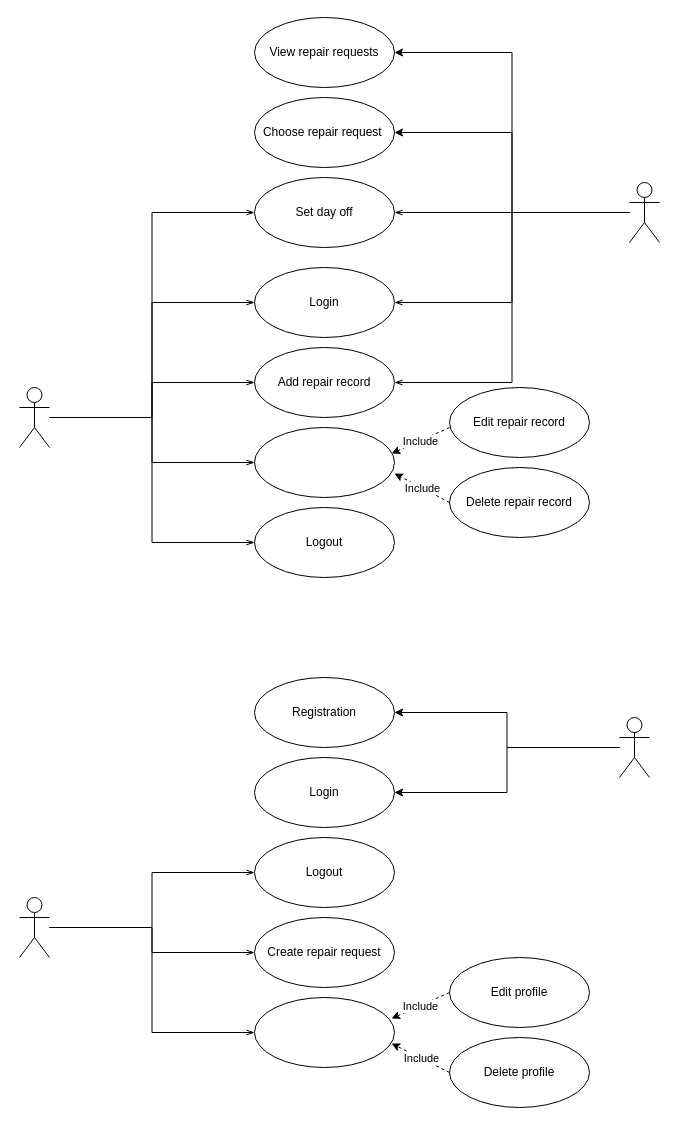
Some shapes in this 680 by 1125 pixel diagram are drawn without their labels. The shapes that lost their labels are listed below. From the top down, each one's box as (x1, y1, x2, y2) in pixels, then its label:
(628, 182, 660, 242): Master
(18, 386, 50, 448): Admin
(254, 426, 394, 498): Manage repair record
(618, 716, 650, 778): Guest
(18, 896, 50, 958): User
(254, 996, 394, 1068): Manage profile
